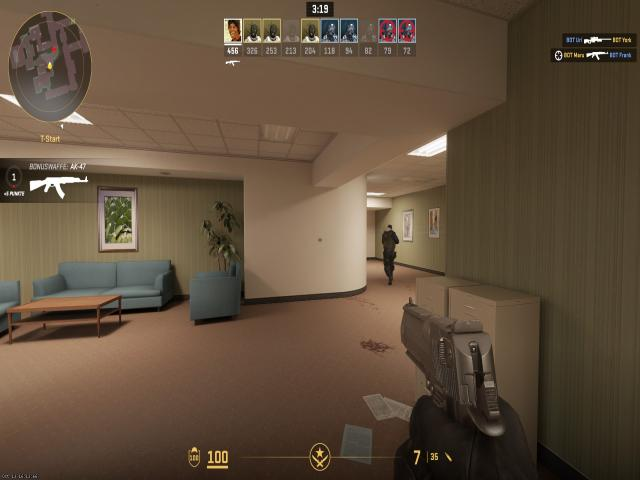CT: (381, 223, 400, 284)
CT-Head: (387, 225, 393, 231)
